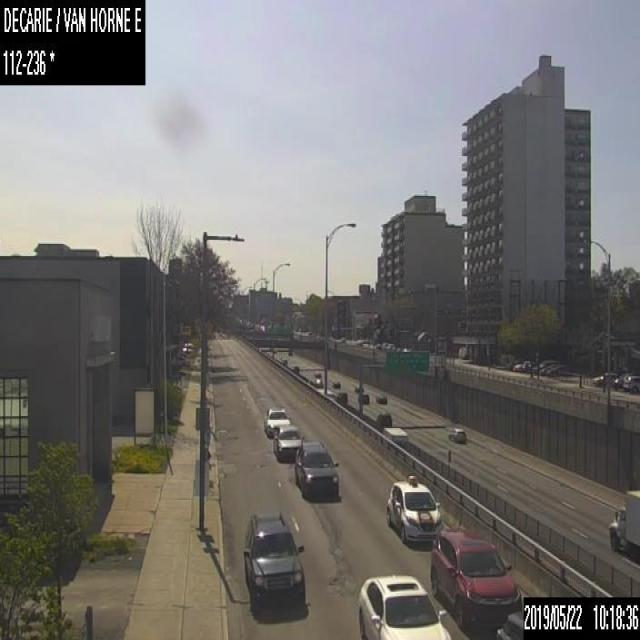vehicle: (429, 531, 520, 628), (242, 511, 306, 605), (358, 574, 450, 639), (385, 474, 442, 545), (295, 441, 340, 498), (608, 488, 639, 564), (272, 424, 303, 462), (263, 406, 291, 437), (498, 607, 524, 639), (383, 426, 406, 443), (446, 427, 466, 442), (623, 374, 639, 392), (545, 363, 567, 376), (374, 411, 392, 425), (539, 363, 554, 375), (356, 392, 368, 404), (376, 393, 388, 405), (334, 391, 347, 402), (354, 383, 363, 392), (291, 364, 298, 372), (332, 380, 339, 388), (314, 370, 320, 377), (314, 378, 320, 383), (282, 358, 286, 364), (288, 350, 292, 355)
